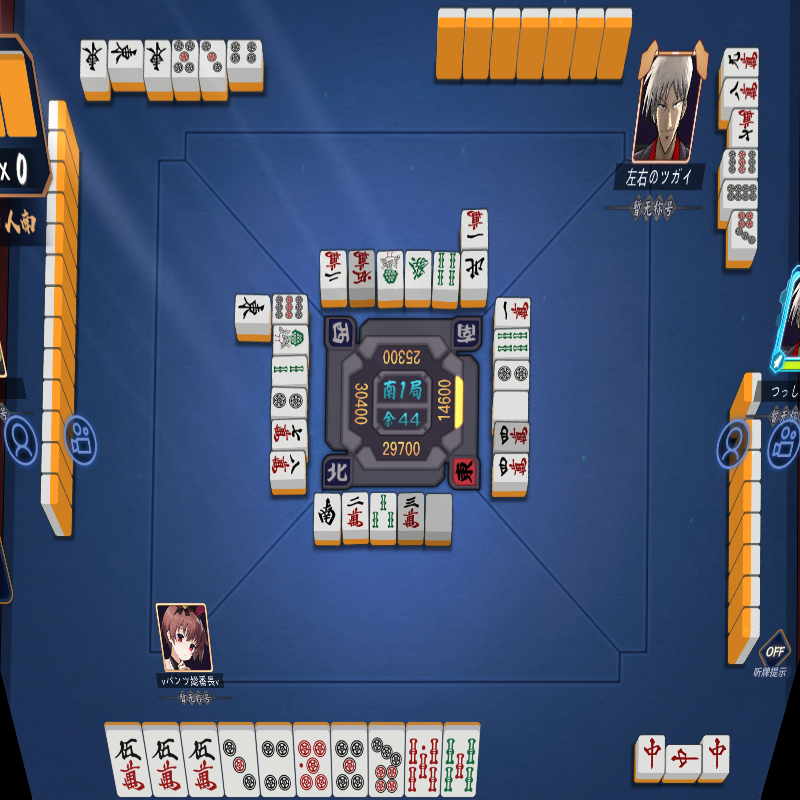1m: (493, 297, 531, 330), (460, 209, 489, 251)
1s: (376, 250, 404, 292), (271, 324, 310, 354)
1z: (107, 39, 144, 76), (80, 39, 108, 86), (144, 39, 171, 84), (235, 294, 271, 327)
2m: (341, 492, 369, 536), (319, 249, 347, 291)
2p: (492, 360, 531, 391), (270, 387, 306, 419)
2s: (271, 356, 308, 387)
2z: (313, 492, 341, 535)
3m: (397, 492, 425, 536)
3p: (219, 728, 260, 796), (199, 39, 227, 80)
3s: (369, 492, 398, 536)
4m: (491, 421, 530, 453), (491, 453, 530, 485)
4p: (256, 729, 296, 797), (225, 40, 262, 73)
4s: (432, 250, 461, 294), (492, 329, 532, 360)
4z: (460, 251, 489, 294)
5m: (143, 727, 189, 797), (106, 728, 151, 797), (183, 728, 222, 796), (346, 250, 377, 292)
5p: (331, 727, 369, 797), (293, 729, 332, 797), (171, 39, 198, 81)
5s: (442, 725, 480, 798), (405, 726, 443, 798)
5z: (491, 391, 531, 423), (424, 494, 453, 535)
6z: (403, 249, 433, 292)
7m: (269, 419, 308, 451), (732, 108, 759, 148)
7p: (368, 727, 405, 798), (730, 210, 759, 256)
7z: (637, 735, 666, 776), (702, 735, 730, 775), (665, 744, 702, 774)
8m: (268, 450, 306, 484), (723, 78, 760, 110)
8p: (722, 179, 760, 211)
9m: (723, 47, 759, 78)
9p: (271, 294, 309, 324), (723, 148, 758, 178)
